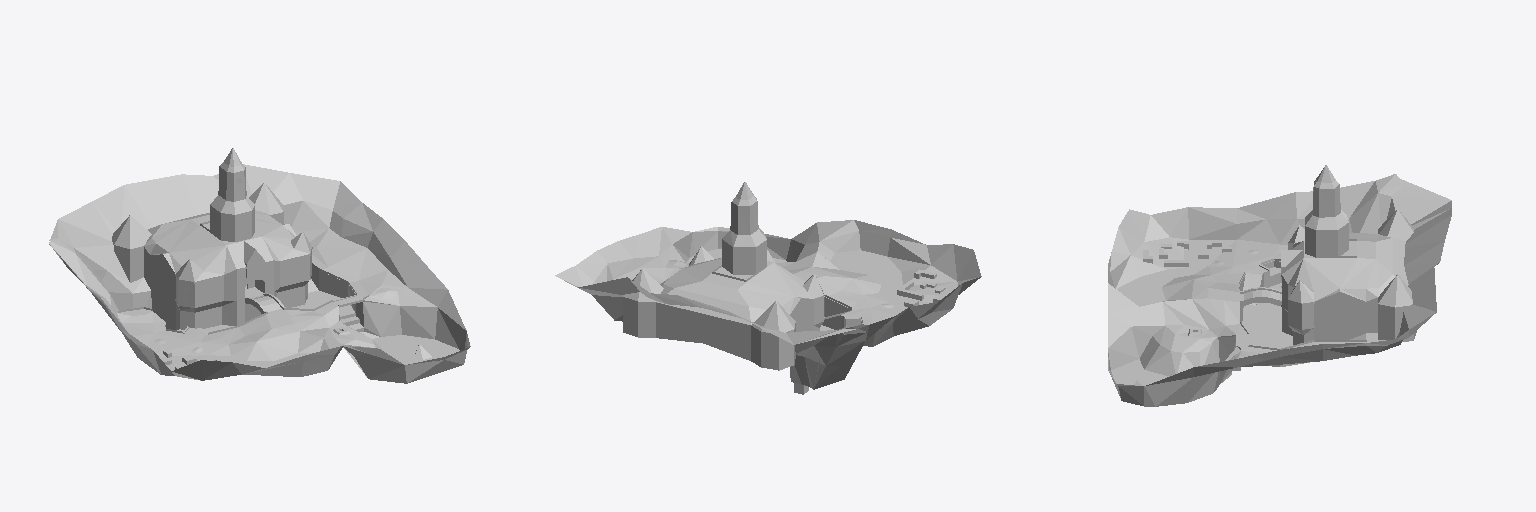
Rendered from castle.obj.
3 views of the same model, side by side, from view 1: azimuth 30°, elevation 25°; view 2: azimuth 150°, elevation 25°; view 3: azimuth 270°, elevation 25° (orthographic).
Visible parts, largest first — view 1: r0-node_r0-mesh.021; view 2: r0-node_r0-mesh.021; view 3: r0-node_r0-mesh.021.
Boxes of the visible parts, <box> form: r0-node_r0-mesh.021: <box>49,148,470,383</box>; r0-node_r0-mesh.021: <box>555,182,981,394</box>; r0-node_r0-mesh.021: <box>1108,165,1451,406</box>.
Bounding box in the file's own units: 16 × 9.43 × 16.